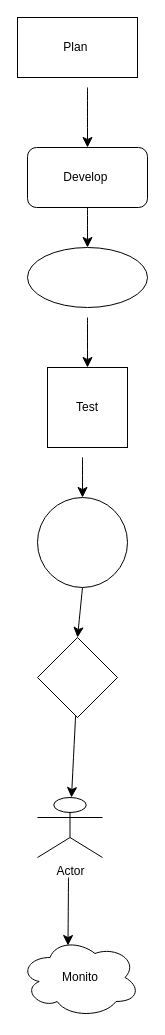
The diagram is 165 pixels wide and 1035 high, and some of its shapes have lost their labels. Here are the shapes that lost their labels. From the top down, the centre of each, then its label:
point (87, 277): Build
point (82, 542): Relese
point (77, 677): Deploy
